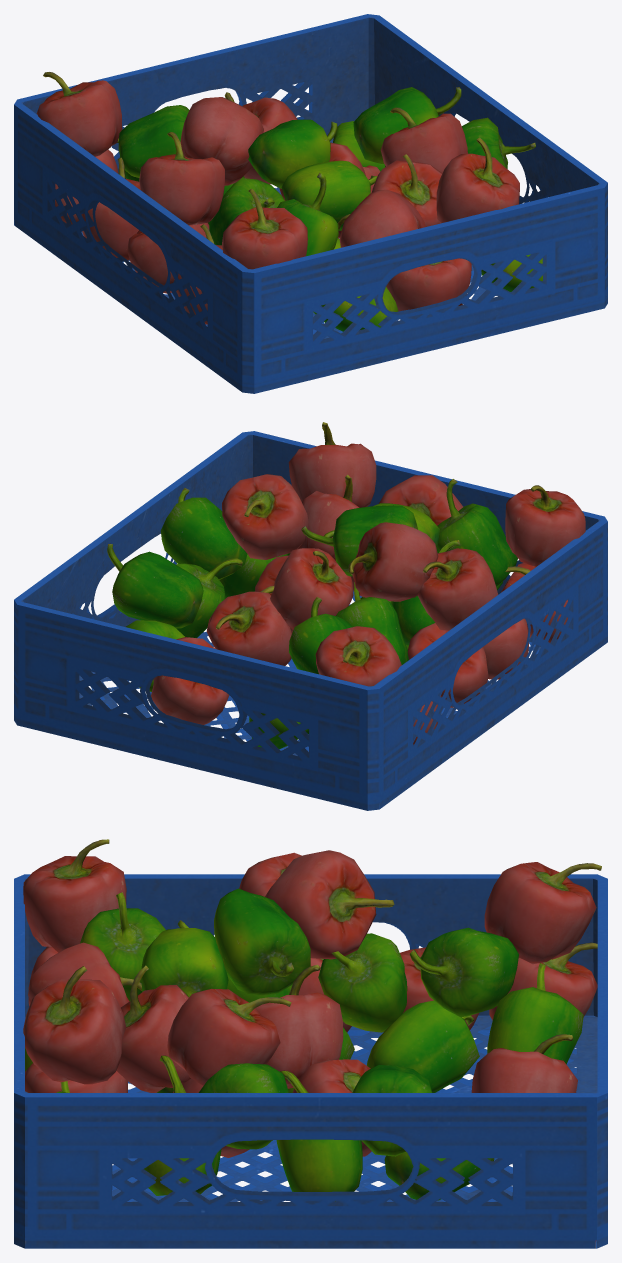
Rendered from Prop_Pepper_Crate.fbx.
The picture shows the model from 3 angles, top to bottom: view 1: azimuth 30°, elevation 25°; view 2: azimuth 150°, elevation 25°; view 3: azimuth 270°, elevation 25°; orthographic projection. The views are drawn at different scales.
Visible parts, largest first — view 1: Box_Blue, Pepper; view 2: Box_Blue, Pepper; view 3: Pepper, Box_Blue.
Boxes of the visible parts, x1,y1,x2,y2 form: Box_Blue: [14, 14, 607, 393]; Pepper: [36, 72, 542, 331]; Box_Blue: [14, 431, 607, 810]; Pepper: [107, 422, 585, 749]; Pepper: [23, 839, 601, 1201]; Box_Blue: [14, 874, 607, 1248].
Bounding box in the file's own units: 28.84 × 13.84 × 32.42.
